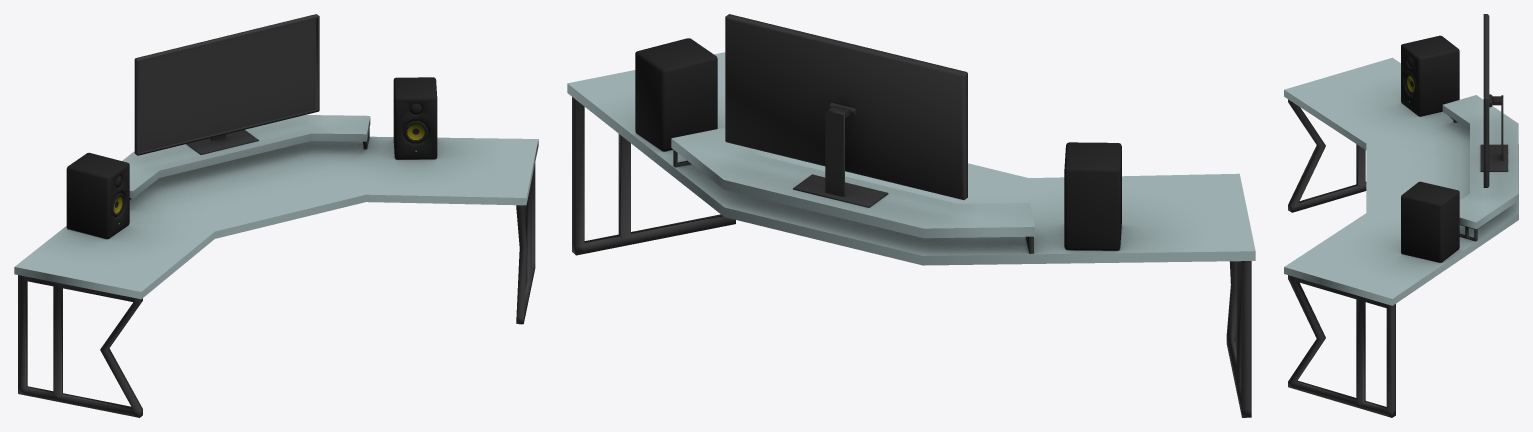
Rendered from Desk.gltf.
3 views of the same model, side by side, from view 1: azimuth 30°, elevation 25°; view 2: azimuth 150°, elevation 25°; view 3: azimuth 270°, elevation 25° (orthographic). The views are drawn at different scales.
Visible parts, largest first — view 1: Desk, Monitor, Speakers; view 2: Desk, Monitor, Speakers; view 3: Desk, Speakers, Monitor.
Boxes of the visible parts, left/top/right/bottom form: Desk: left=14, top=115, right=538, bottom=417; Monitor: left=134, top=14, right=319, bottom=155; Speakers: left=66, top=77, right=437, bottom=238; Desk: left=567, top=52, right=1255, bottom=417; Monitor: left=725, top=14, right=967, bottom=207; Speakers: left=635, top=38, right=1121, bottom=250; Desk: left=1284, top=57, right=1518, bottom=417; Speakers: left=1401, top=35, right=1459, bottom=262; Monitor: left=1480, top=14, right=1507, bottom=187.
Bounding box in the file's own units: 88.69 × 41.66 × 36.45.
4 materials, 3 textured.
